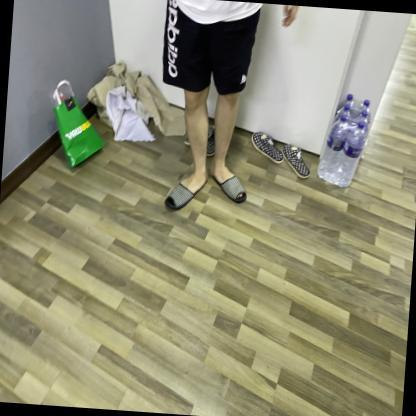no_safety-shoe: (158, 165, 209, 222), (209, 161, 251, 210)
